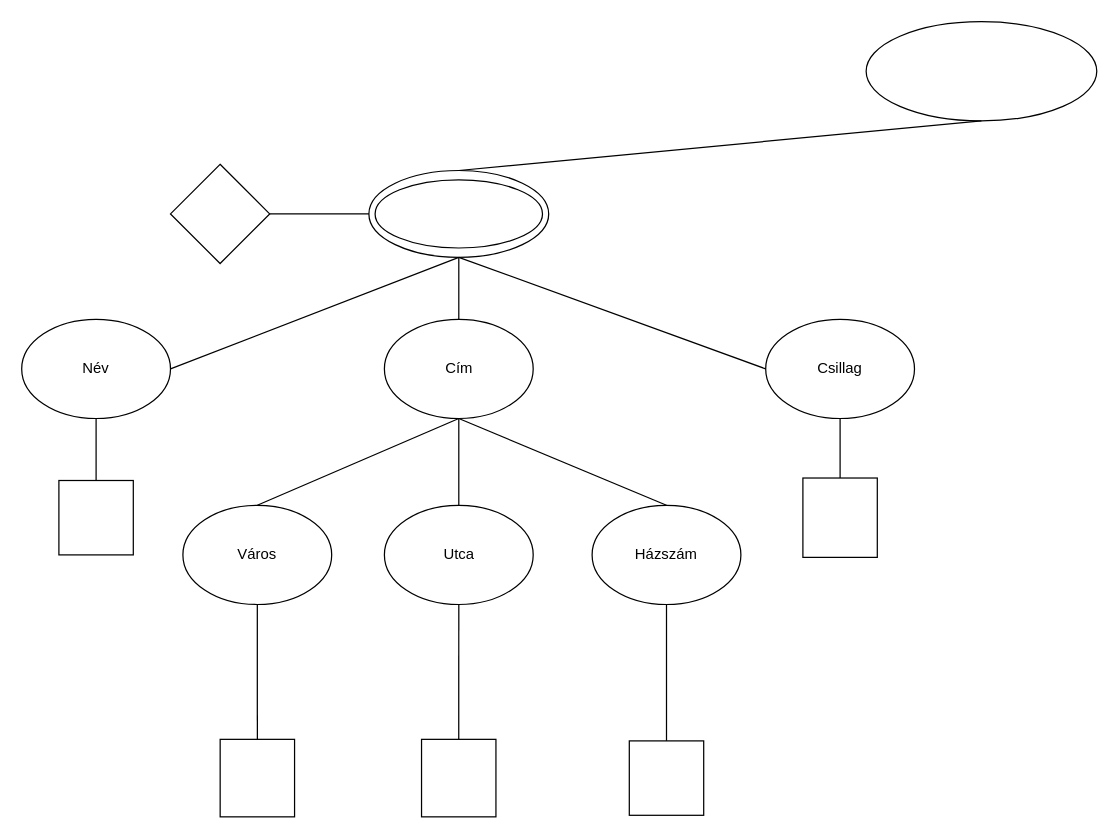
This 1118x839 diagram has some shape labels left out. The shapes that lost their labels are listed below. From the top down, each one's box as (x1, y1, x2, y2) in pixels, then its label:
(865, 20, 1097, 121): Vendéglátás
(169, 163, 270, 264): Ekod
(374, 179, 542, 248): Etterem
